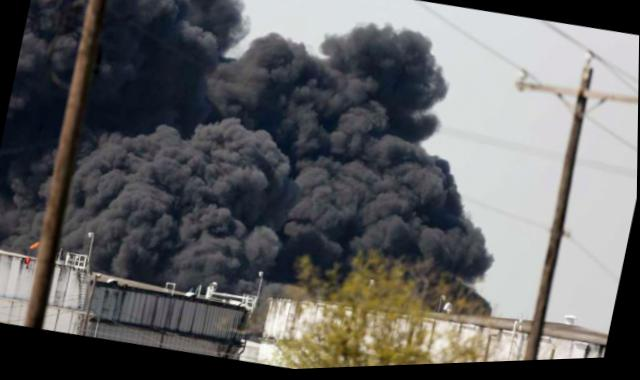smoke: (190, 60, 422, 265), (65, 0, 241, 247), (0, 0, 95, 242), (389, 144, 513, 280), (183, 222, 345, 278), (315, 15, 446, 81), (313, 56, 453, 104), (224, 26, 317, 77), (89, 228, 178, 278), (174, 249, 265, 293), (413, 109, 446, 150), (58, 224, 93, 253)
